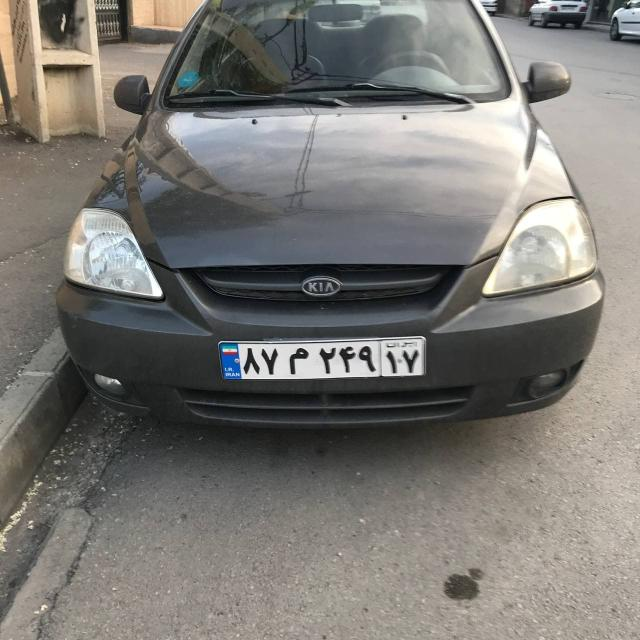Plates: (219, 338, 425, 380)
